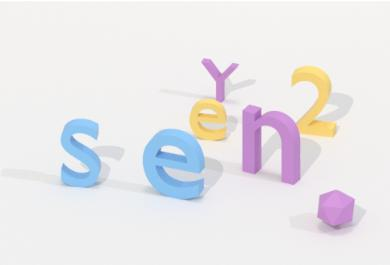0-TronCanh: (312, 183, 359, 232)
2: (288, 62, 341, 141)
S: (56, 113, 105, 192)
Y: (199, 56, 240, 104)
e: (138, 124, 208, 203), (186, 96, 230, 145)
n: (238, 100, 303, 187)
